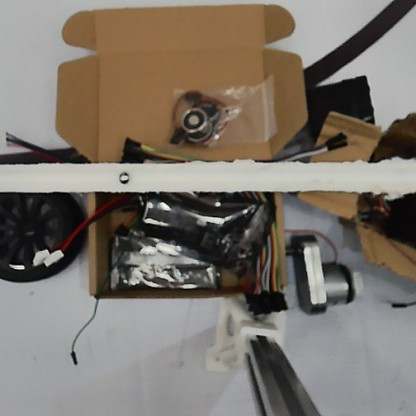ironball: (114, 168, 131, 186)
